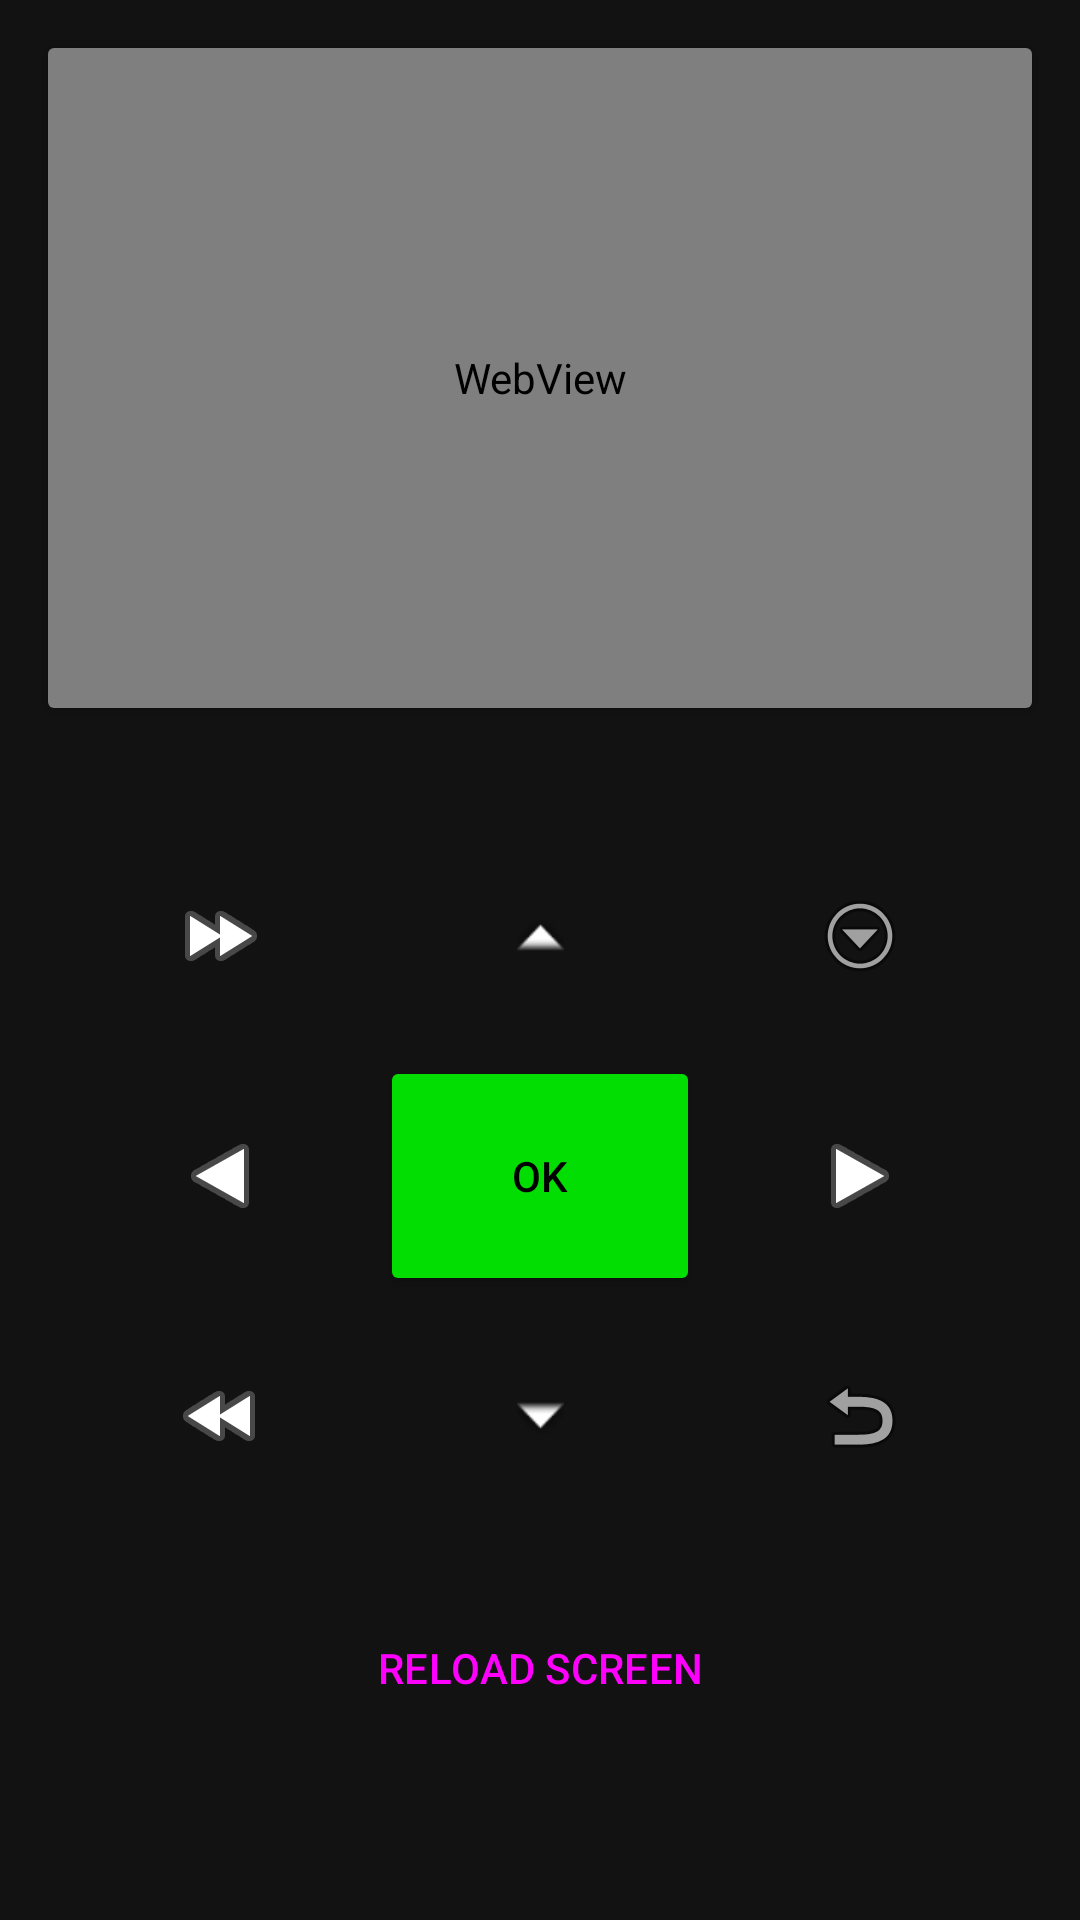

Icons on this 1080px×1920px Android screen, each with the point to tap as (x,y):
Back: (861,1416)
Down: (540,1415)
Menu: (860,936)
Next Page: (221,936)
Prev Page: (219,1416)
Right: (860,1176)
Up: (540,937)
